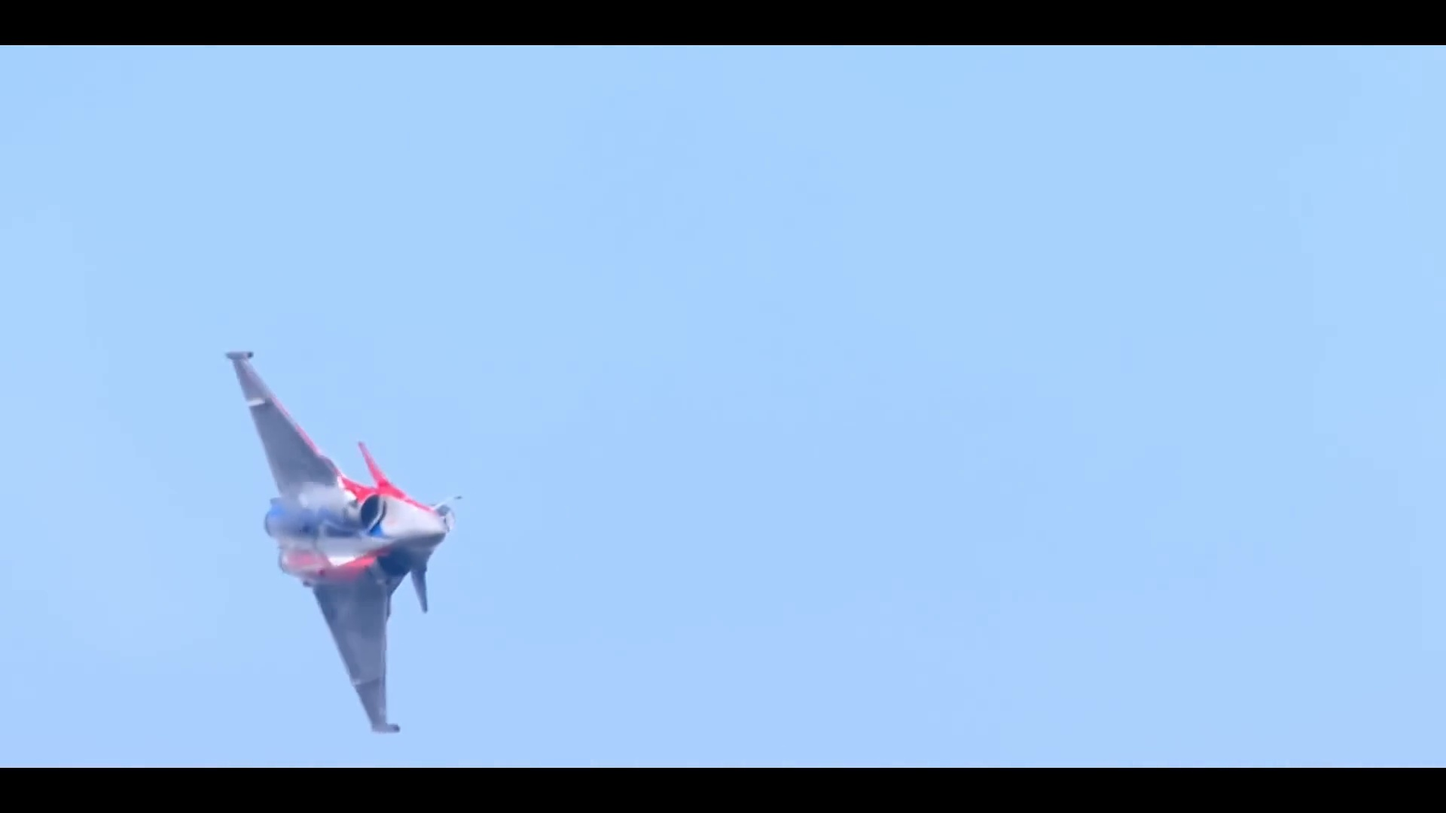Rafale: (220, 343, 468, 737)
